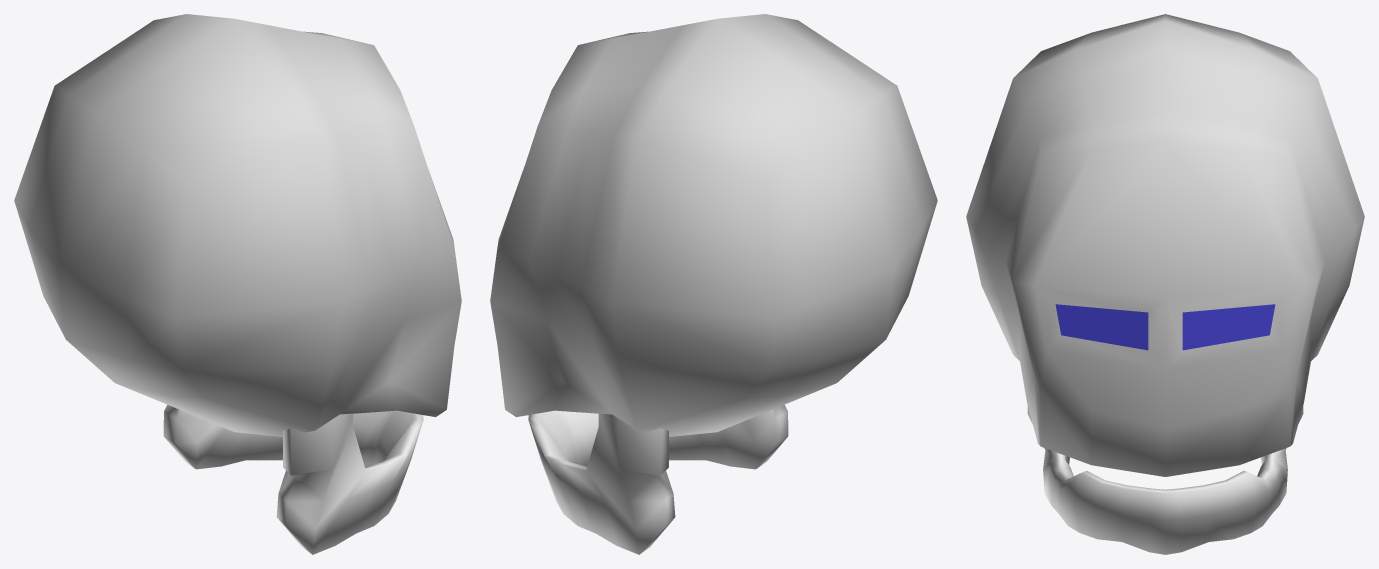
The model's file is skkull.fbx.
3 views of the same model, side by side, from view 1: azimuth 30°, elevation 25°; view 2: azimuth 150°, elevation 25°; view 3: azimuth 270°, elevation 25° (orthographic). The views are drawn at different scales.
Visible parts, largest first — view 1: Cube, Jaw; view 2: Cube, Jaw; view 3: Cube, Jaw.
Part boxes in pixels (x1,y1,x2,y2): Cube: [14, 14, 461, 436]; Jaw: [163, 404, 423, 554]; Cube: [490, 14, 937, 436]; Jaw: [528, 404, 788, 554]; Cube: [966, 14, 1364, 476]; Jaw: [1027, 406, 1303, 554].
Bounding box in the file's own units: 316 × 413 × 320.
